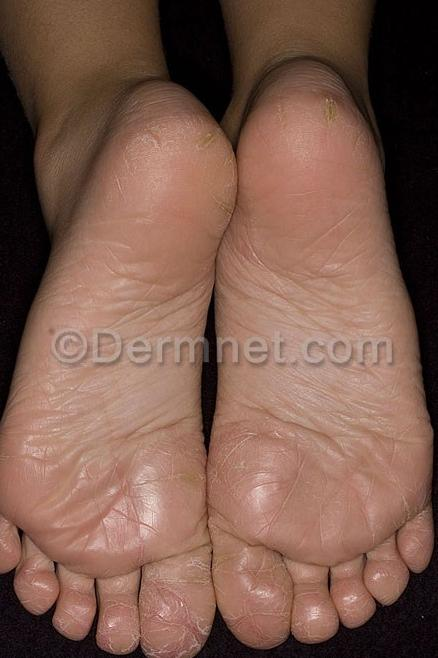xerosis 2: (0, 436, 430, 658), (102, 96, 385, 222)
